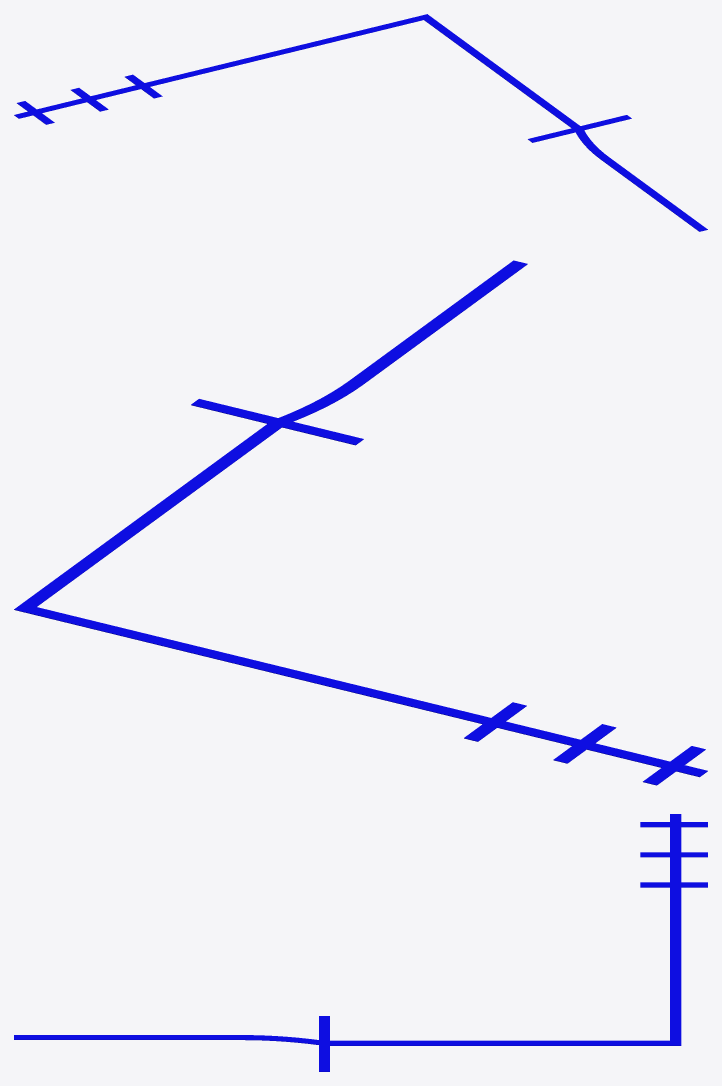
The picture shows the model from 3 angles, top to bottom: view 1: azimuth 30°, elevation 25°; view 2: azimuth 150°, elevation 25°; view 3: azimuth 270°, elevation 25°; orthographic projection. The views are drawn at different scales.
Parts seen in each view (by area): view 1: node0; view 2: node0; view 3: node0.
Boxes of the visible parts, bbox=[...] form: node0: bbox=[14, 14, 707, 231]; node0: bbox=[14, 260, 707, 785]; node0: bbox=[14, 814, 707, 1071].
Bounding box in the file's own units: 1.62 × 1.85 × 0.001.
